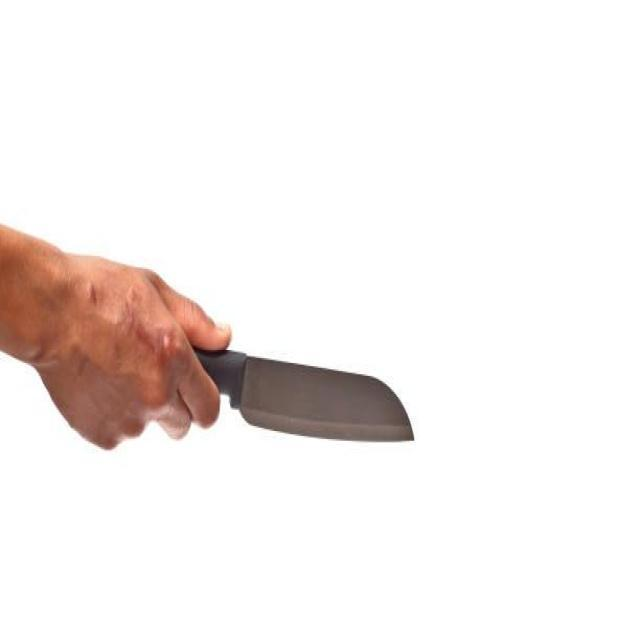faca: (49, 260, 435, 532)
